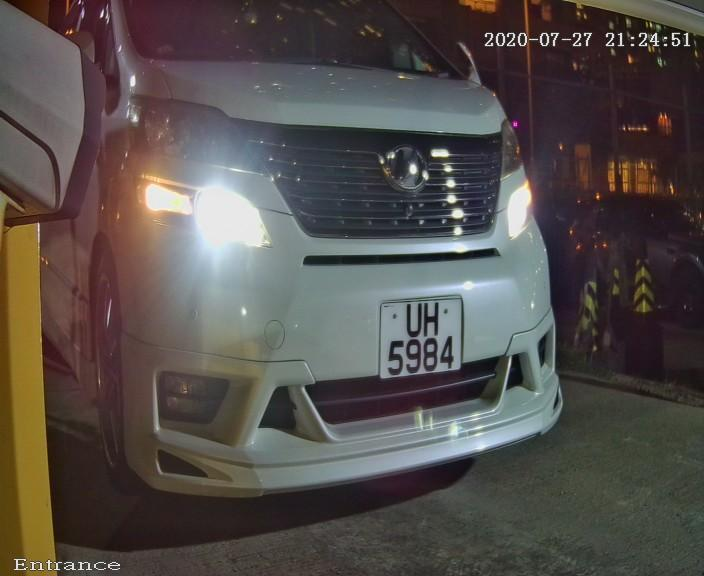privatecar: (85, 3, 569, 520)
